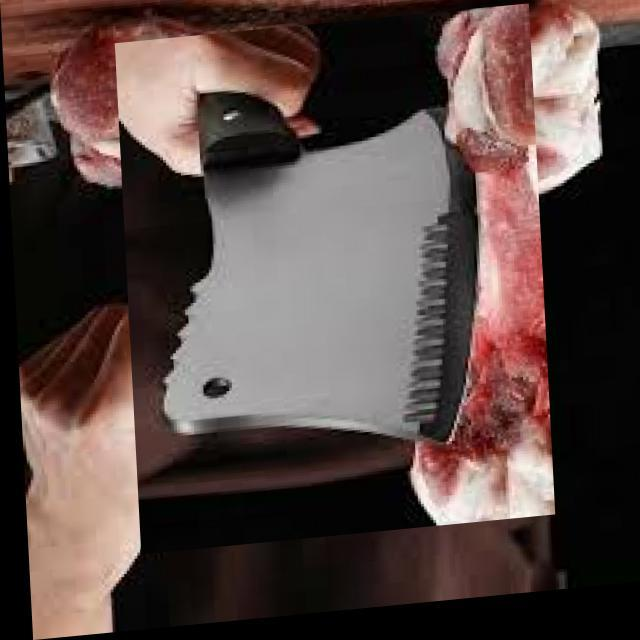knife: (162, 90, 482, 450)
